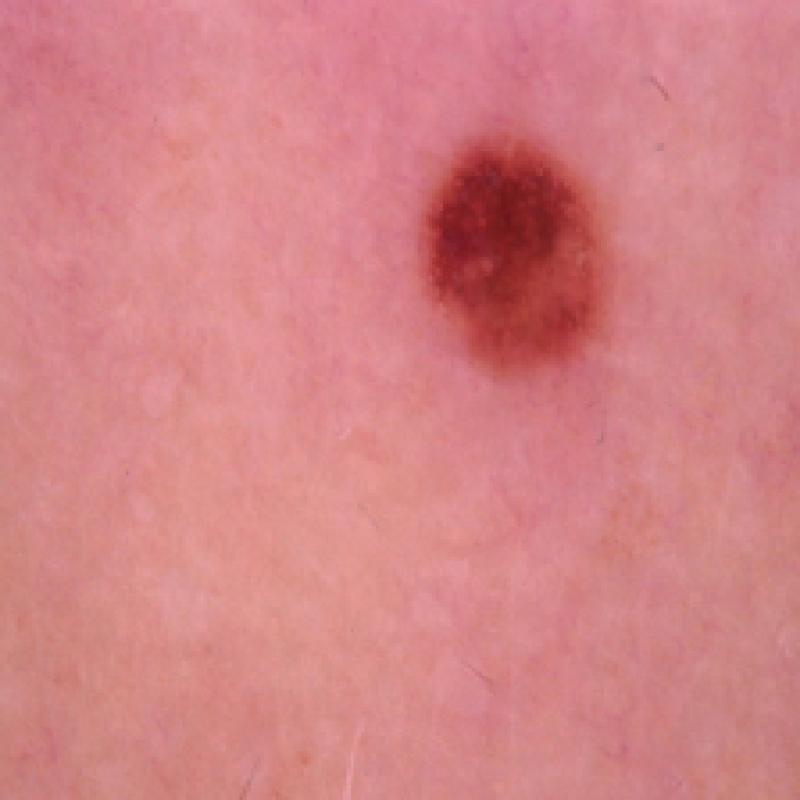benign: (414, 127, 640, 388)
